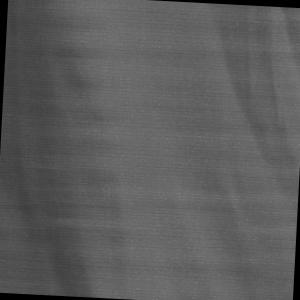Wrinkle: (151, 1, 300, 300), (1, 1, 134, 299)
